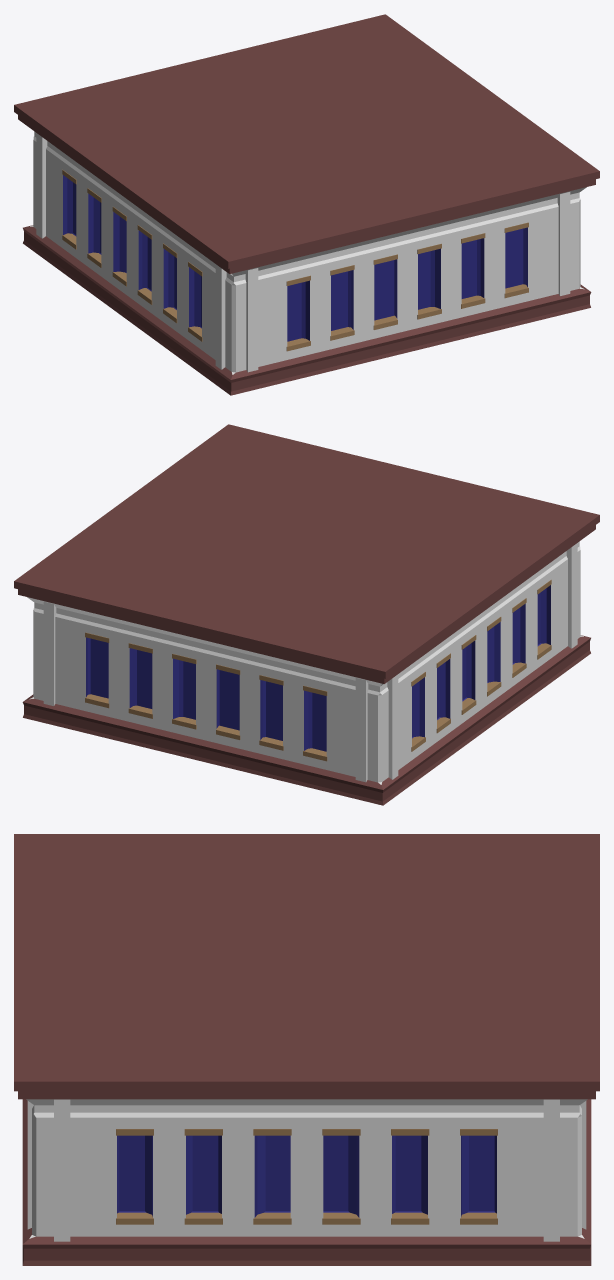
3 views of the same model, one above another, from view 1: azimuth 30°, elevation 25°; view 2: azimuth 150°, elevation 25°; view 3: azimuth 270°, elevation 25° (orthographic). The views are drawn at different scales.
Visible parts, largest first — view 1: floor10C, floor10.2Decor.001; view 2: floor10C, floor10.2Decor.001; view 3: floor10C, floor10.2Decor.001.
Boxes of the visible parts, box(x1,y1,x2,y2) form: floor10C: box(14, 14, 599, 395); floor10.2Decor.001: box(36, 133, 570, 372); floor10C: box(14, 424, 599, 805); floor10.2Decor.001: box(43, 543, 577, 782); floor10C: box(14, 834, 599, 1265); floor10.2Decor.001: box(27, 1099, 586, 1241).
Bounding box in the file's own units: 228 × 80.69 × 228.
